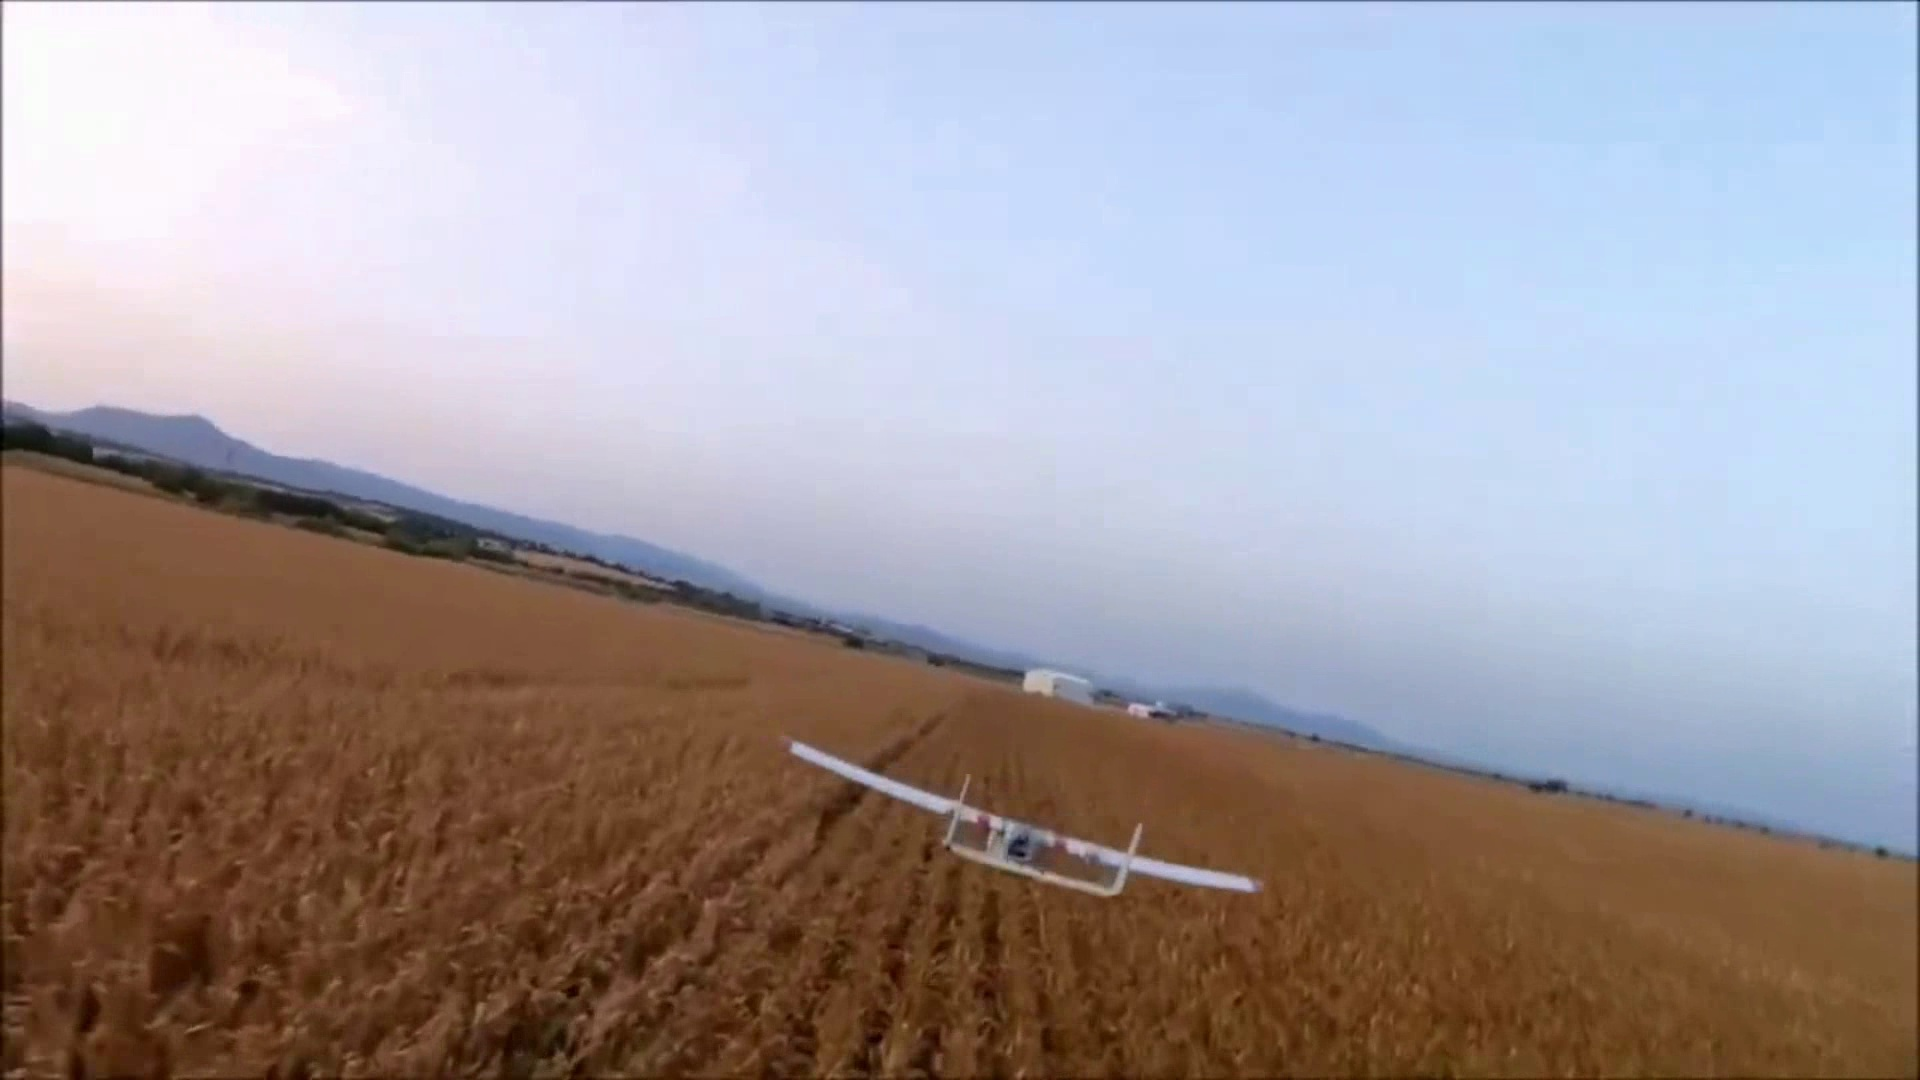airplane: (17, 396, 1269, 902), (785, 740, 1262, 903)
